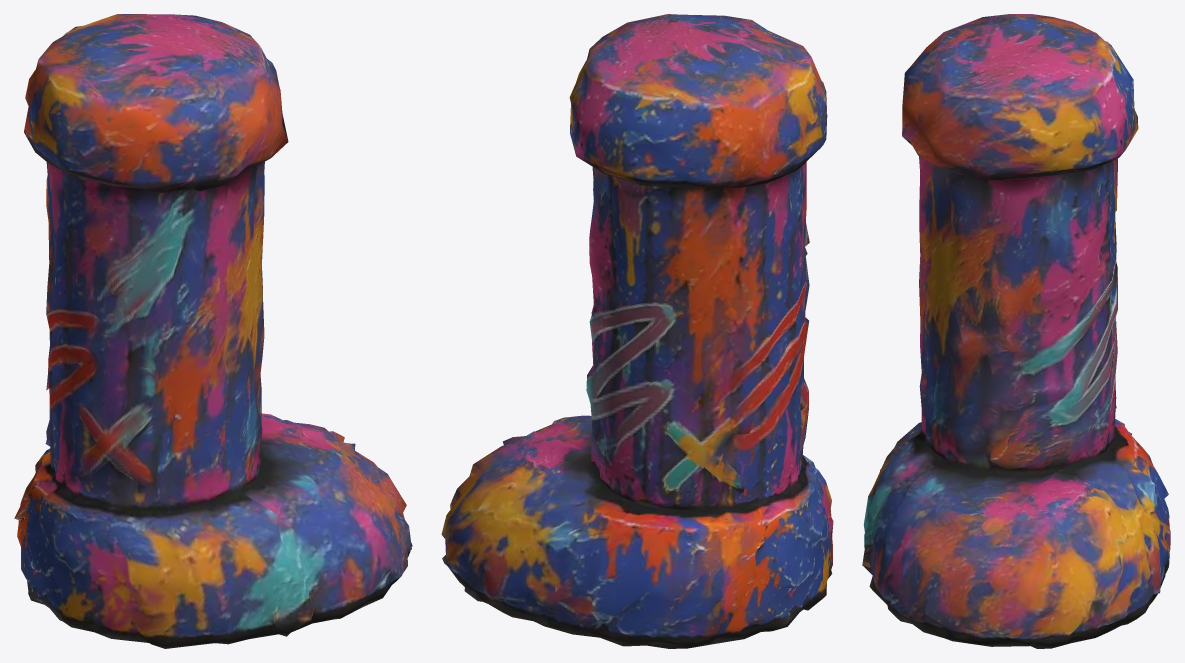
Rendered from chomper_bin_leg.glb.
3 views of the same model, side by side, from view 1: azimuth 30°, elevation 25°; view 2: azimuth 150°, elevation 25°; view 3: azimuth 270°, elevation 25° (orthographic). The views are drawn at different scales.
Visible parts, largest first — view 1: chomper_bin_leg; view 2: chomper_bin_leg; view 3: chomper_bin_leg.
Part boxes in pixels (x1,y1,x2,y2): chomper_bin_leg: (14, 14, 412, 648); chomper_bin_leg: (441, 14, 833, 648); chomper_bin_leg: (862, 14, 1170, 648).
Size of the model in its own units: 0.2308 by 0.35 by 0.193.
Materials: 1 (1 with a texture image).
